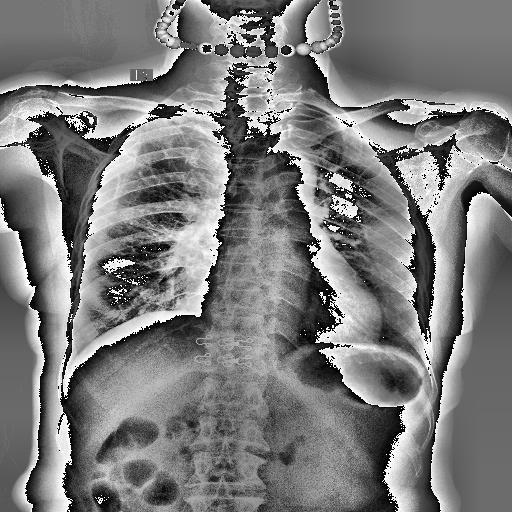0- Aortic enlargement: (254, 148, 313, 206), (260, 148, 318, 194), (263, 148, 316, 194)
13- Pulmonary fibrosis: (156, 112, 198, 161), (164, 116, 190, 146)
3- Cardiomegaly: (194, 280, 381, 342)
